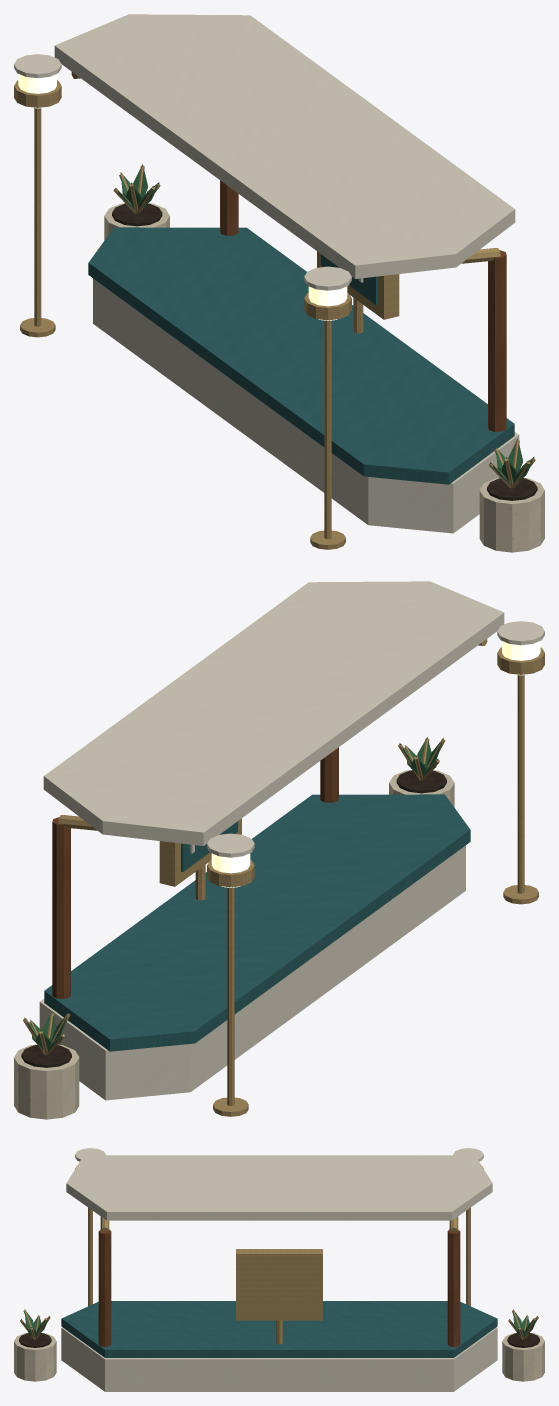
File: G7_Gallery_D16_r001.glb
3 views of the same model, one above another, from view 1: azimuth 30°, elevation 25°; view 2: azimuth 150°, elevation 25°; view 3: azimuth 270°, elevation 25° (orthographic). The views are drawn at different scales.
Visible parts, largest first — view 1: G7_D16_ivory_solid, G7_D16_teal_solid, G7_D16_metal_solid, G7_D16_stone_solid, G7_D16_wood_solid, G7_D16_soil_solid, G7_D16_leaf_visual_plant, G7_D16_lens_visual_lens; view 2: G7_D16_ivory_solid, G7_D16_teal_solid, G7_D16_metal_solid, G7_D16_stone_solid, G7_D16_wood_solid, G7_D16_soil_solid, G7_D16_lens_visual_lens, G7_D16_leaf_visual_plant; view 3: G7_D16_ivory_solid, G7_D16_teal_solid, G7_D16_metal_solid, G7_D16_wood_solid, G7_D16_stone_solid, G7_D16_soil_solid, G7_D16_leaf_visual_plant.
Boxes of the visible parts, x1=… form: G7_D16_ivory_solid: x1=14, y1=14, x2=519, y2=533; G7_D16_teal_solid: x1=88, y1=227, x2=514, y2=484; G7_D16_metal_solid: x1=14, y1=72, x2=535, y2=549; G7_D16_stone_solid: x1=104, y1=203, x2=544, y2=552; G7_D16_wood_solid: x1=220, y1=180, x2=506, y2=431; G7_D16_soil_solid: x1=112, y1=203, x2=537, y2=500; G7_D16_leaf_visual_plant: x1=115, y1=164, x2=534, y2=484; G7_D16_lens_visual_lens: x1=18, y1=74, x2=347, y2=320; G7_D16_ivory_solid: x1=39, y1=581, x2=544, y2=1100; G7_D16_teal_solid: x1=44, y1=794, x2=470, y2=1051; G7_D16_metal_solid: x1=23, y1=639, x2=544, y2=1116; G7_D16_stone_solid: x1=14, y1=770, x2=454, y2=1119; G7_D16_wood_solid: x1=52, y1=747, x2=338, y2=998; G7_D16_soil_solid: x1=21, y1=770, x2=446, y2=1067; G7_D16_lens_visual_lens: x1=211, y1=641, x2=540, y2=887; G7_D16_leaf_visual_plant: x1=24, y1=737, x2=443, y2=1051; G7_D16_ivory_solid: x1=61, y1=1148, x2=497, y2=1391; G7_D16_teal_solid: x1=61, y1=1301, x2=497, y2=1357; G7_D16_metal_solid: x1=20, y1=1165, x2=538, y2=1344; G7_D16_wood_solid: x1=98, y1=1229, x2=460, y2=1346; G7_D16_stone_solid: x1=14, y1=1332, x2=544, y2=1381; G7_D16_soil_solid: x1=19, y1=1333, x2=539, y2=1347; G7_D16_leaf_visual_plant: x1=21, y1=1309, x2=537, y2=1337.
Size of the model in its own units: 1.73 by 2.04 by 5.48.
8 materials, 8 textured.
